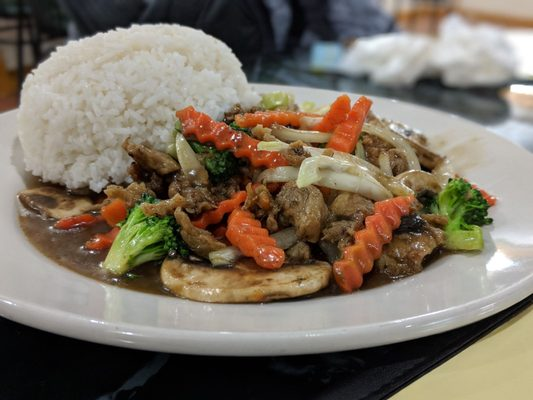curry: (102, 201, 189, 277), (437, 178, 496, 252)
